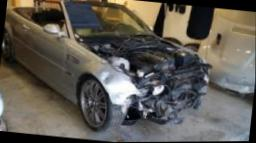Bonnet: (74, 32, 206, 83)
Bumper: (124, 68, 207, 125)
